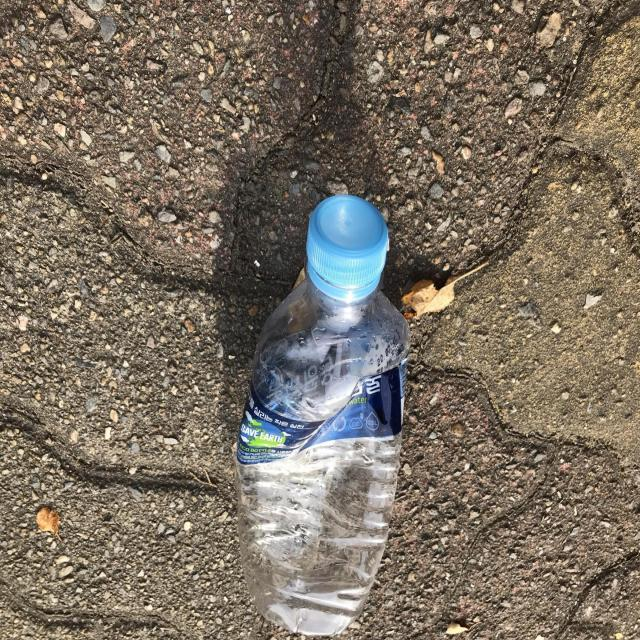plastic: (236, 194, 410, 636)
